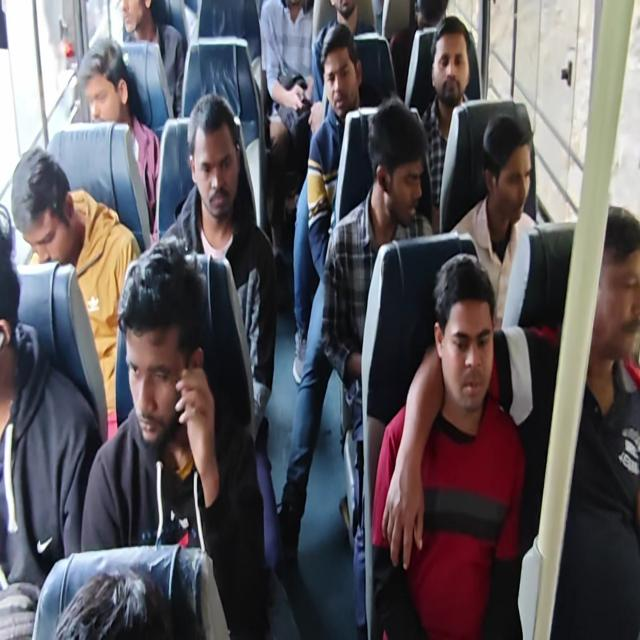person: (112, 260, 210, 455), (429, 262, 506, 424), (56, 578, 204, 640), (583, 222, 640, 376), (8, 140, 81, 253), (479, 117, 538, 232), (372, 110, 428, 224), (190, 118, 246, 218), (79, 51, 135, 130), (0, 210, 24, 392), (430, 27, 474, 111), (321, 38, 358, 117), (110, 0, 160, 42), (412, 0, 446, 44), (328, 0, 368, 31)
